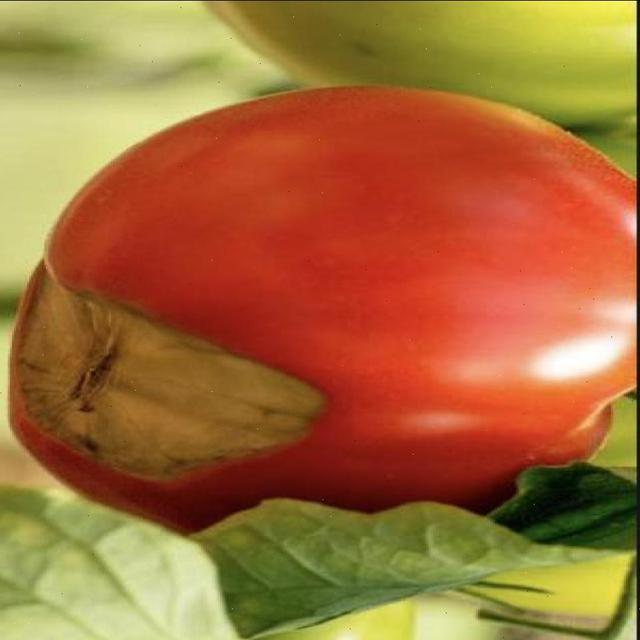Blossom End Rot Fruit: (8, 172, 224, 322)
